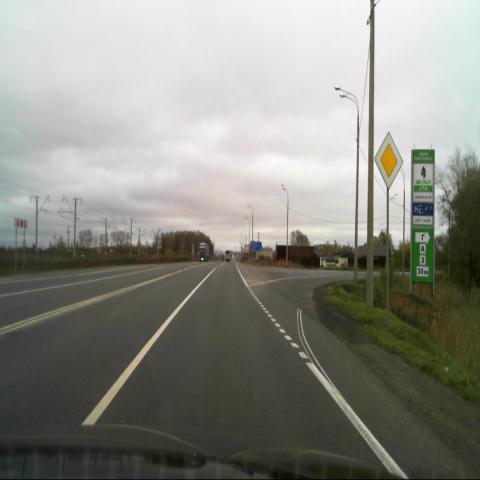2_1: (374, 132, 404, 192)
